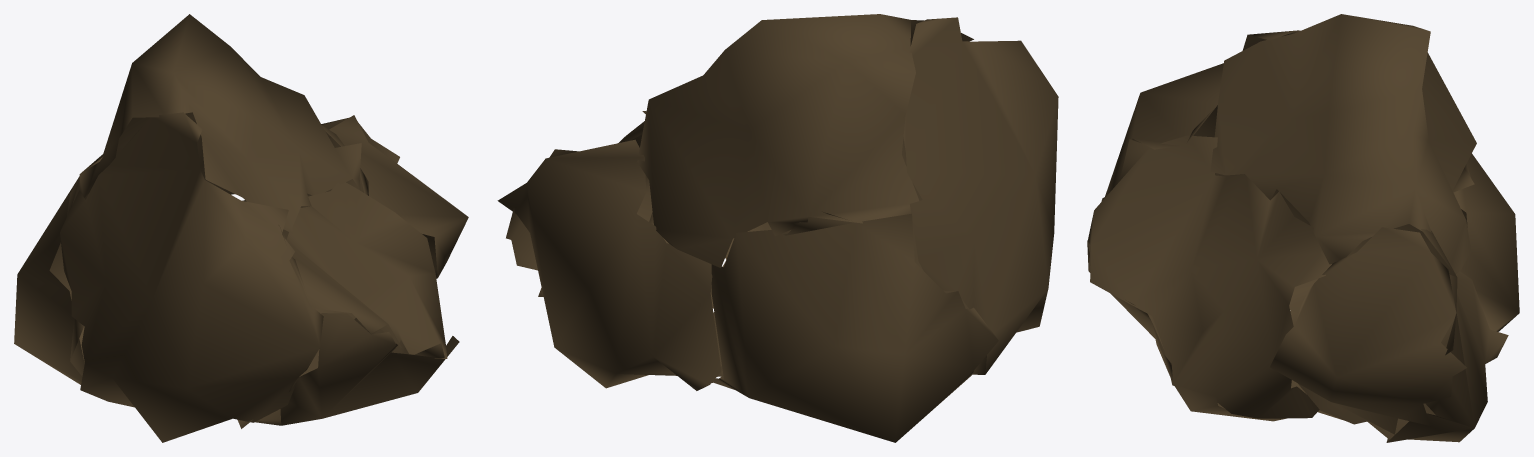
File: rock-mossy-b-lod1.glb
3 renders of one model, left to right at view 1: azimuth 30°, elevation 25°; view 2: azimuth 150°, elevation 25°; view 3: azimuth 270°, elevation 25°, orthographic. The views are drawn at different scales.
Parts seen in each view (by area): view 1: rock-mossy-b.001; view 2: rock-mossy-b.001; view 3: rock-mossy-b.001.
Boxes of the visible parts, <box> form: rock-mossy-b.001: <box>14,14,468,442</box>; rock-mossy-b.001: <box>497,14,1058,442</box>; rock-mossy-b.001: <box>1087,14,1519,442</box>.
Bounding box in the file's own units: 2.13 × 1.77 × 1.97.
